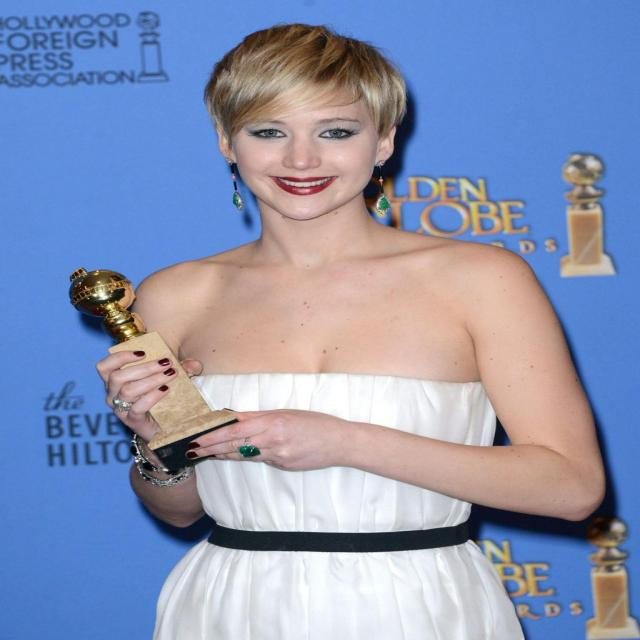Face: (223, 66, 396, 219)
